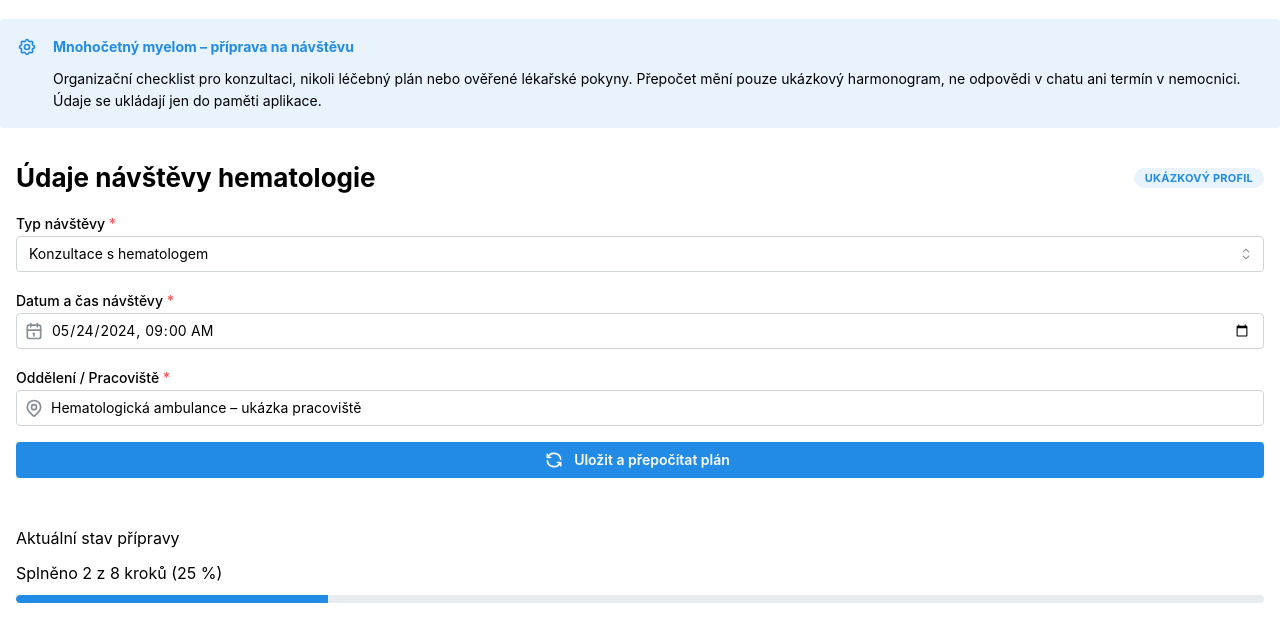
Scenario: preparation page › recalculates only on save and resets completion when the date changes
Replace the text in the field labelled "Datum a čas návštěvy" with "2024-06-01T10:30" at (640, 331), box [16,313,1264,349]
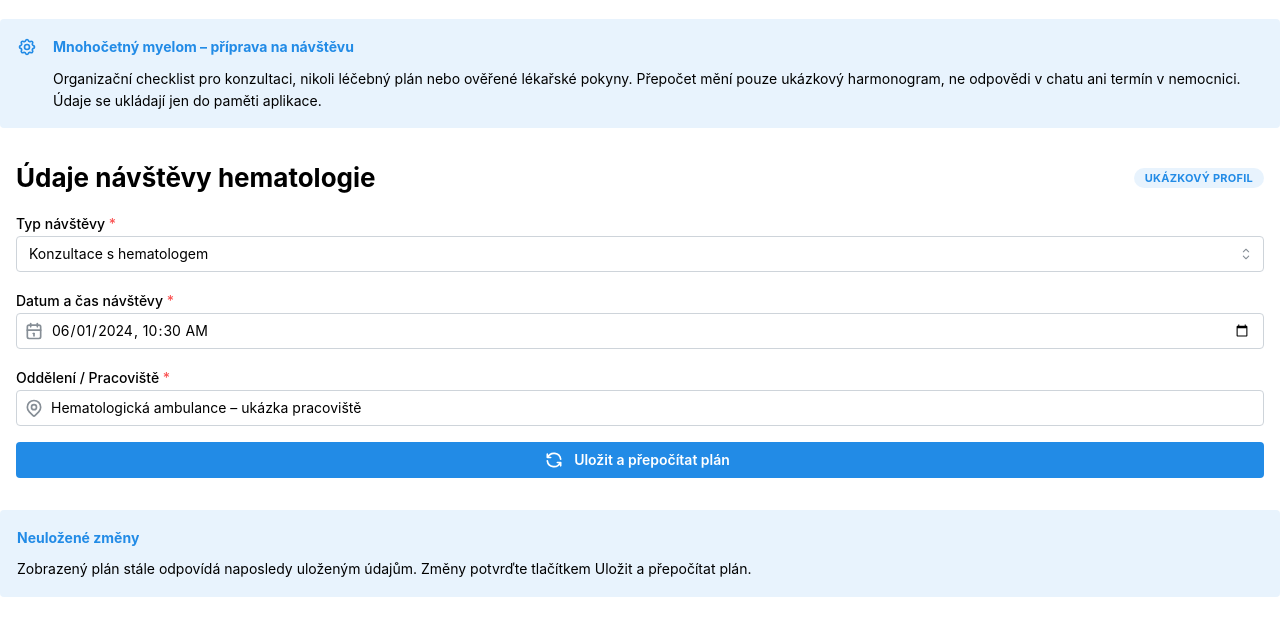
expect the text "Neuložené změny" is shown: met, box [17,527,139,548]
Click the button with aria-label "Uložit zadané údaje a přepočítat plán" at (640, 460), box [16,442,1264,478]
(page scrolled)
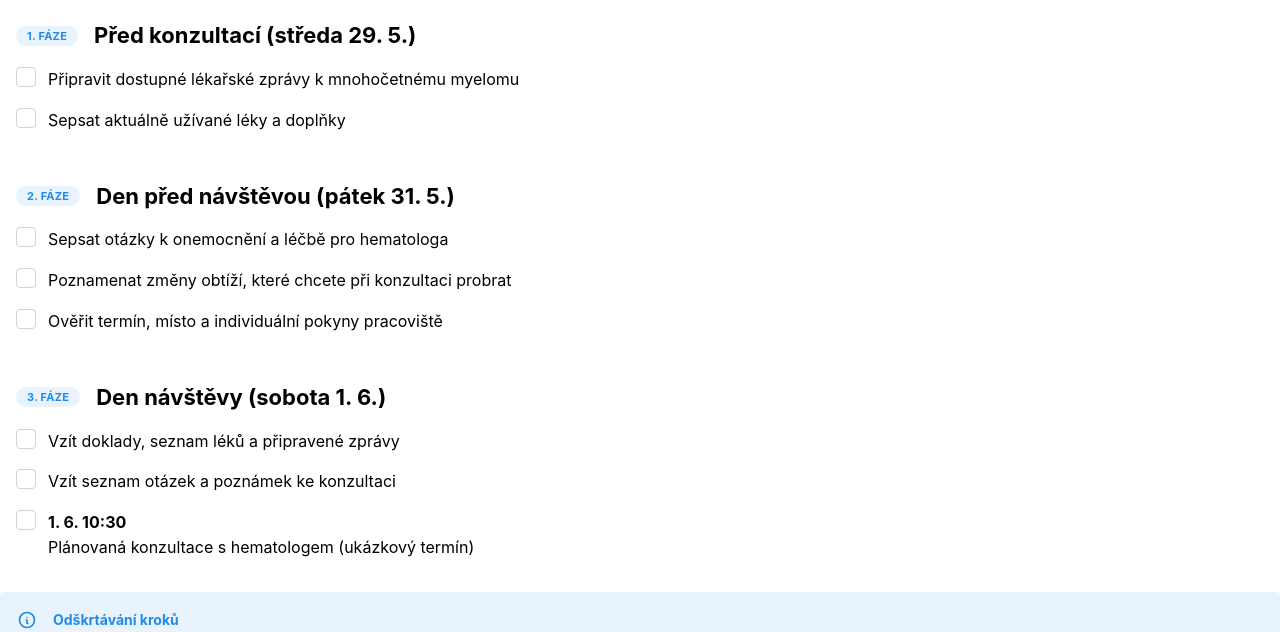
expect the text "Neuložené změny" is gone: met
